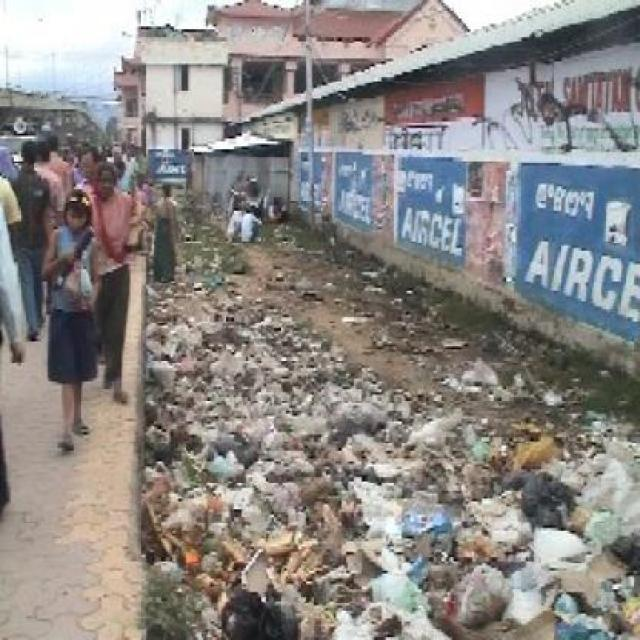garbage: (352, 385, 636, 638), (151, 323, 345, 638)
